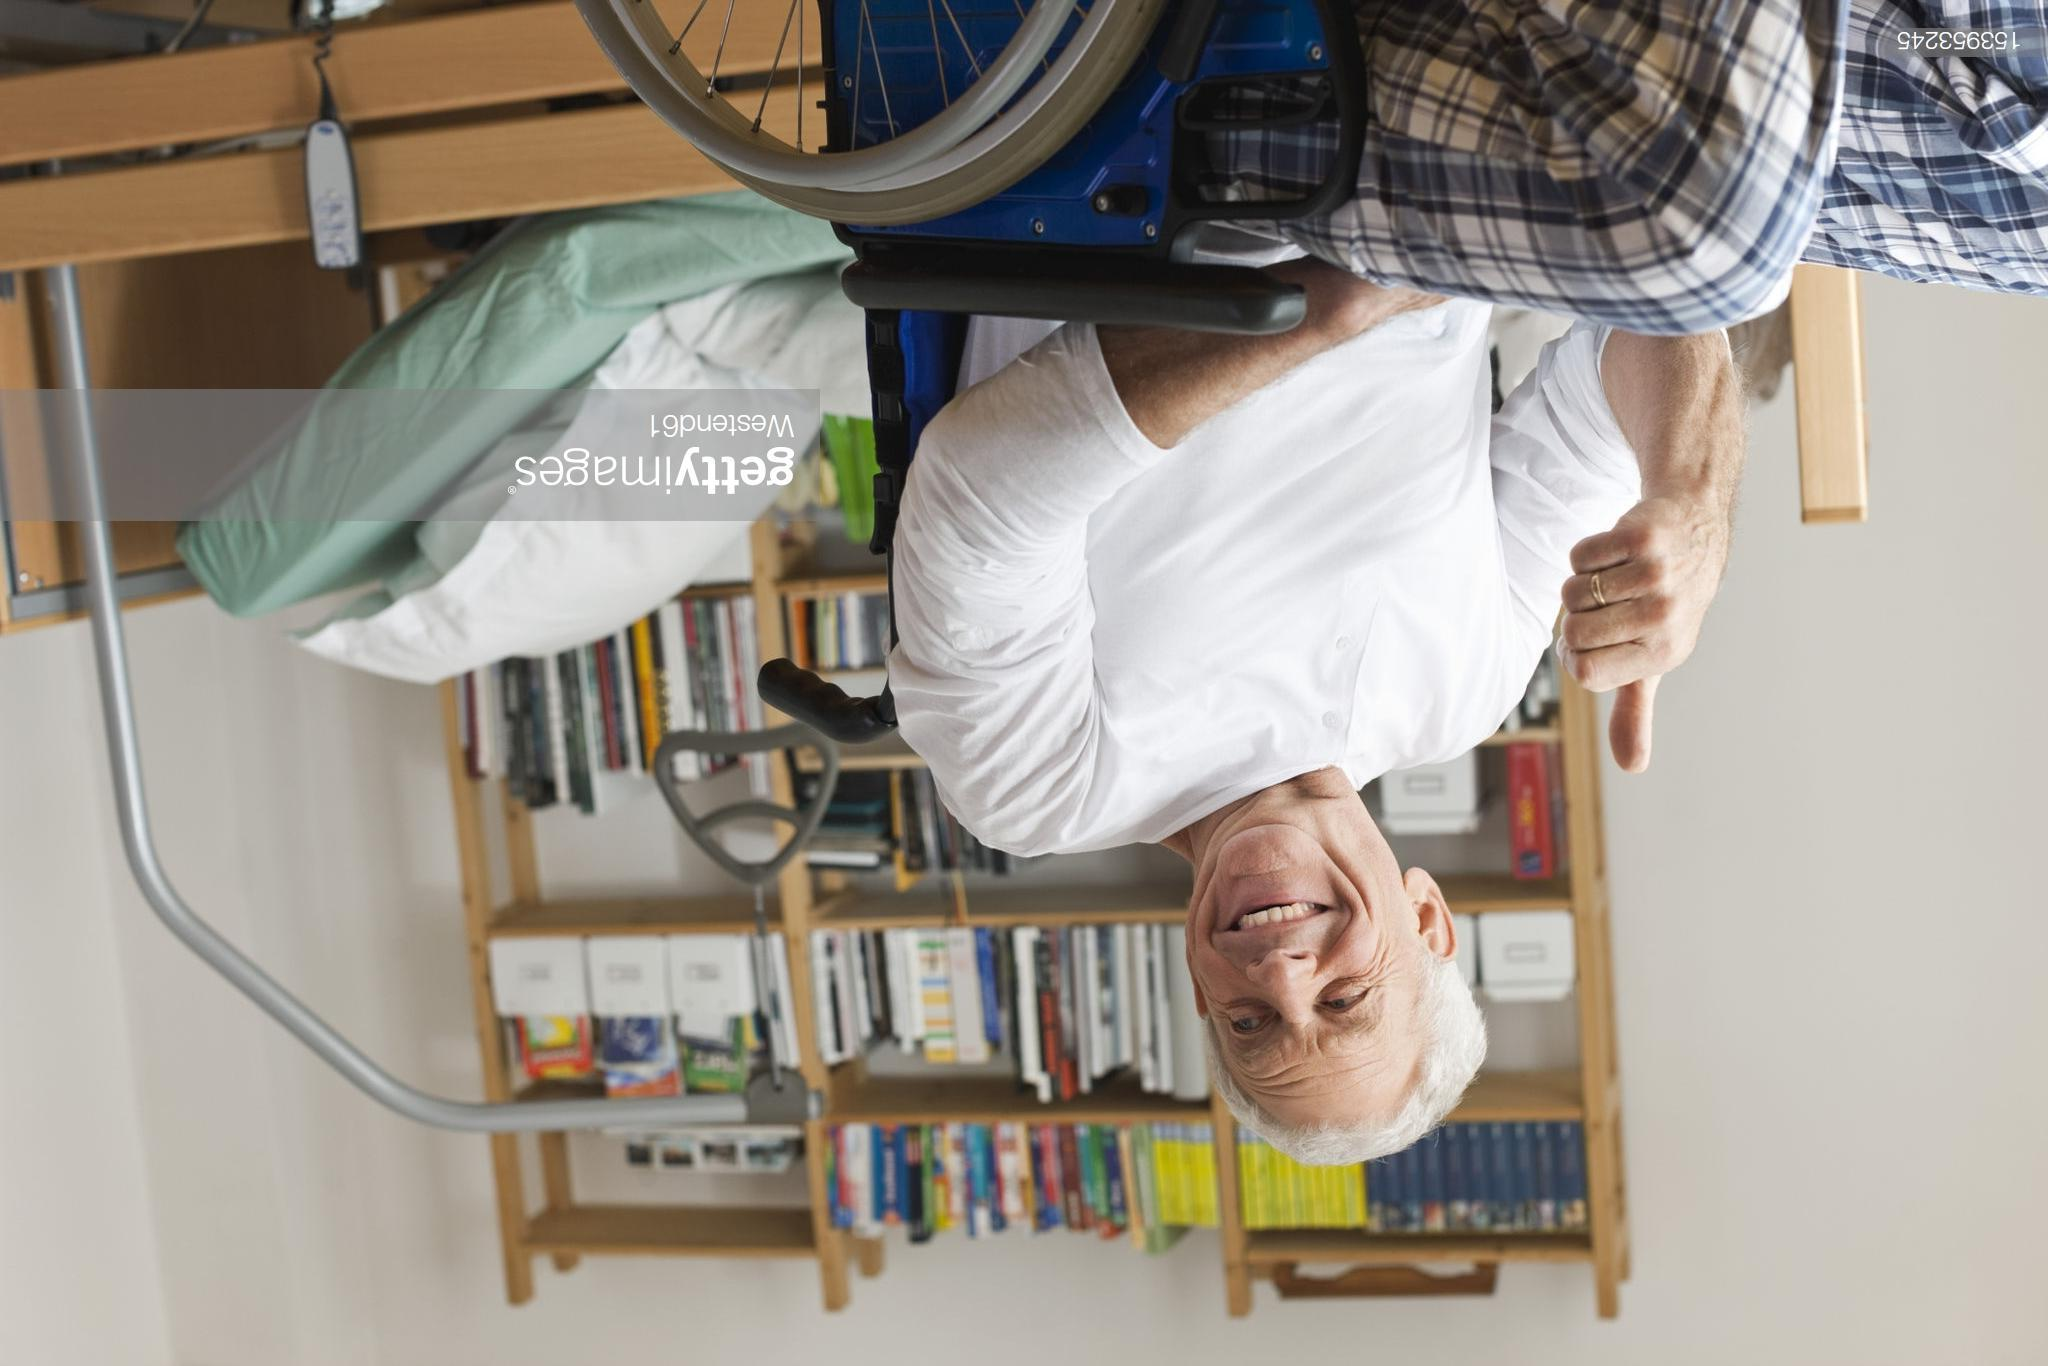thumbsdown: (1557, 526, 1690, 774)
